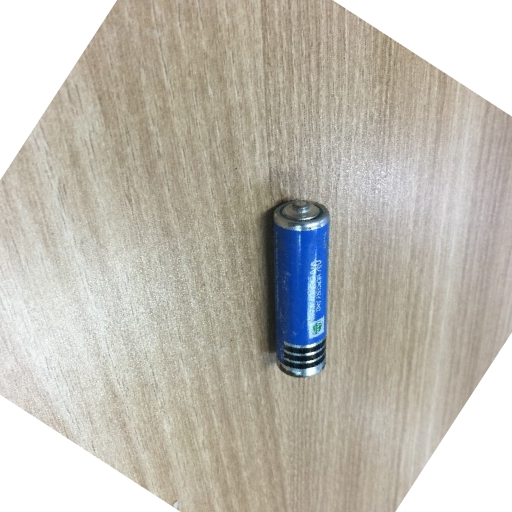Battery_0: (264, 184, 340, 392)
